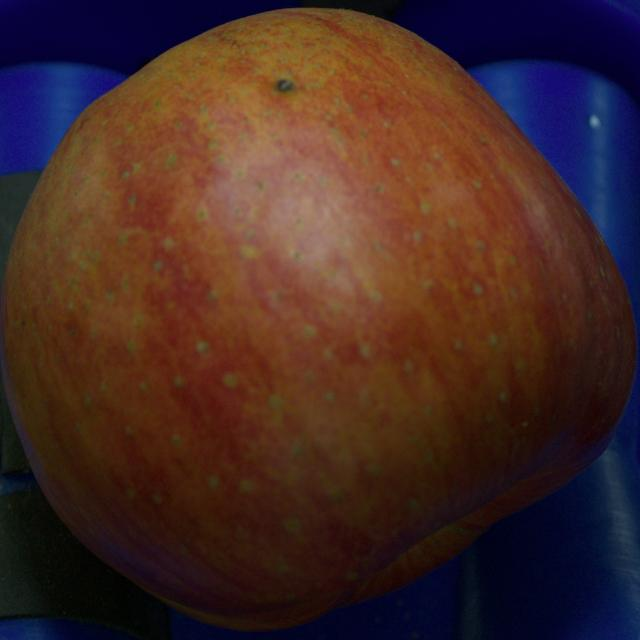apple: (0, 9, 635, 629)
pest: (276, 78, 294, 92)
